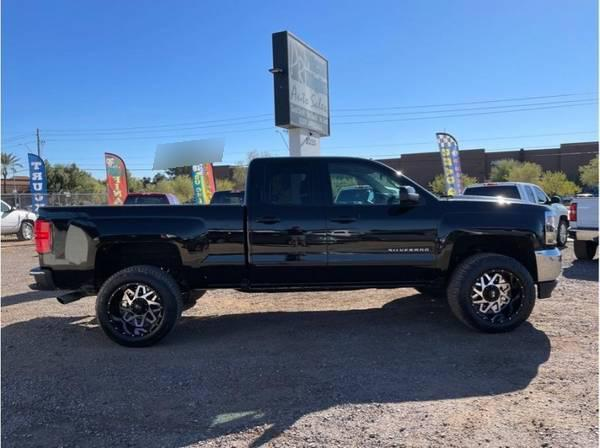Front_Bumper: (535, 247, 562, 297)
Front_Fender: (434, 199, 554, 288)
Front_Right_Door: (329, 203, 440, 288)
Front_Right_Window: (329, 158, 443, 204)
Rear_Bumper: (27, 266, 53, 289)
Rear_Fender: (37, 206, 248, 291)
Rear_Right_Door: (247, 205, 326, 289)
Rear_Right_Window: (246, 158, 329, 206)
Right_Taillight: (33, 223, 51, 254)
Wheel: (95, 264, 186, 346), (445, 248, 534, 328)
